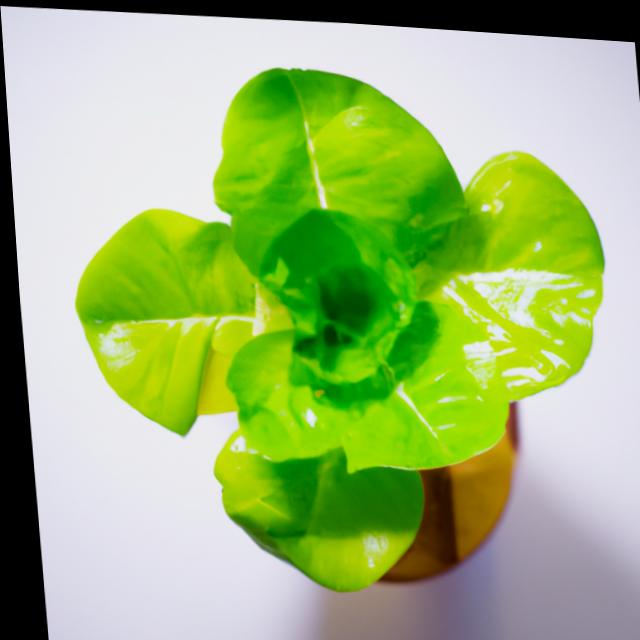-N: (44, 31, 640, 631)
